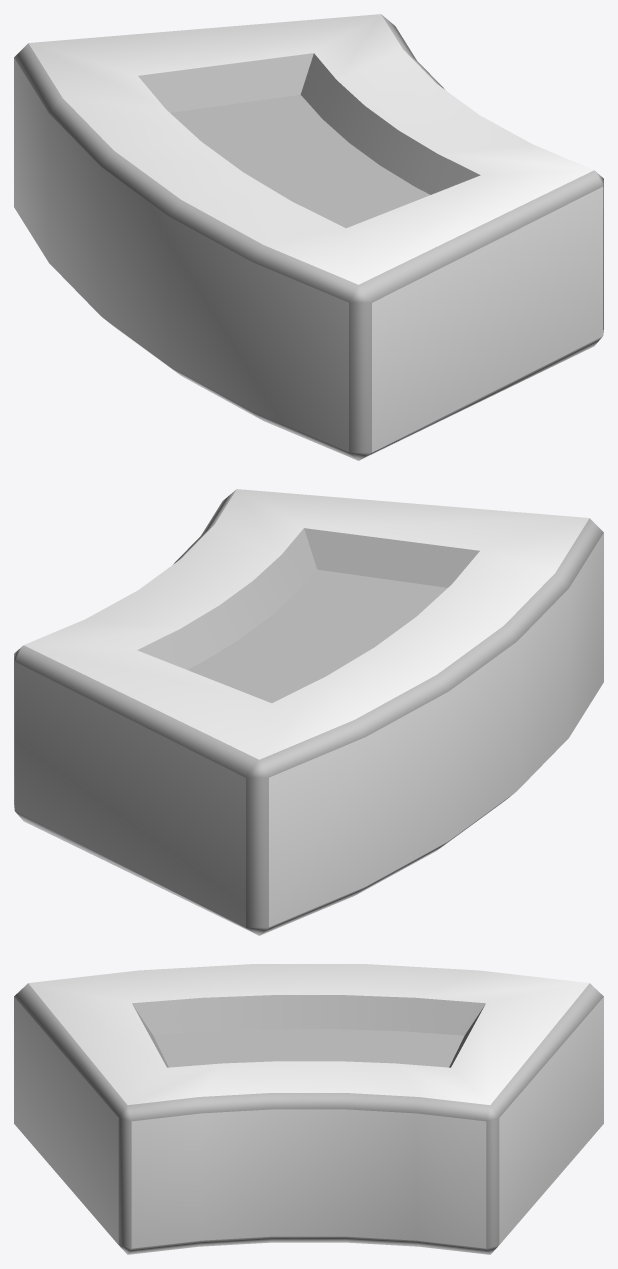
Rendered from Brick_LOD2_20 Deg.fbx.
3 views of the same model, one above another, from view 1: azimuth 30°, elevation 25°; view 2: azimuth 150°, elevation 25°; view 3: azimuth 270°, elevation 25° (orthographic). The views are drawn at different scales.
Parts seen in each view (by area): view 1: Brick_LOD2_20_Deg; view 2: Brick_LOD2_20_Deg; view 3: Brick_LOD2_20_Deg.
Boxes of the visible parts, x1,y1,x2,y2 form: Brick_LOD2_20_Deg: (14, 14, 603, 460); Brick_LOD2_20_Deg: (14, 489, 603, 935); Brick_LOD2_20_Deg: (14, 964, 603, 1254).
Bounding box in the file's own units: 1.08 × 0.5 × 1.79.
1 material, 1 textured.
